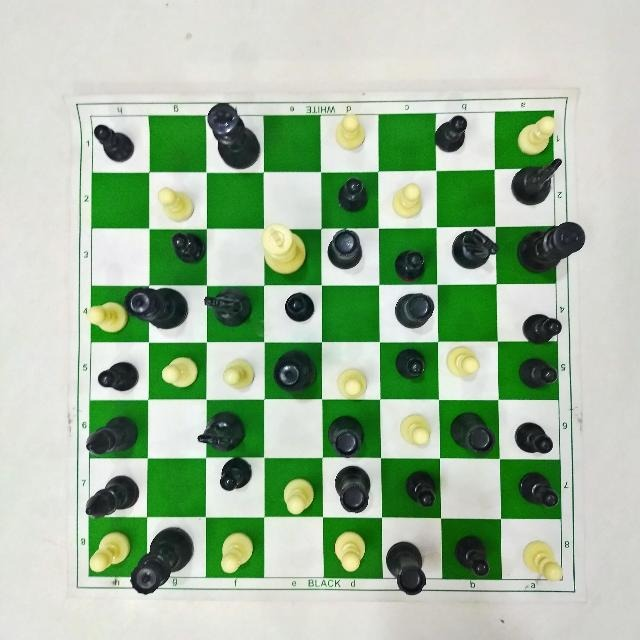black-bishop: (86, 472, 142, 520)
black-king: (513, 220, 588, 275), (124, 286, 193, 329)
black-knight: (512, 159, 566, 207), (201, 283, 258, 328), (195, 411, 253, 451), (451, 227, 503, 271), (325, 227, 369, 271)
black-pawn: (451, 532, 495, 584), (514, 467, 561, 512), (429, 113, 472, 157), (93, 123, 137, 165), (332, 109, 371, 155), (513, 420, 559, 458), (215, 458, 258, 498), (392, 244, 432, 286), (403, 465, 442, 508), (95, 359, 144, 393), (515, 354, 563, 388), (517, 312, 562, 348), (170, 227, 209, 266), (280, 287, 320, 324), (335, 175, 373, 213), (394, 344, 431, 383)
black-queen: (132, 525, 197, 600), (260, 222, 309, 276), (82, 414, 138, 455), (270, 350, 316, 396)
black-rook: (388, 538, 430, 600), (447, 404, 499, 453), (335, 468, 374, 516), (326, 411, 366, 454), (394, 292, 436, 331)
white-pawn: (206, 103, 265, 171), (519, 537, 567, 585), (330, 525, 372, 577), (86, 528, 131, 576), (213, 530, 259, 576), (278, 473, 320, 523), (515, 112, 557, 158), (154, 183, 199, 225), (332, 360, 374, 403), (82, 300, 128, 338), (388, 179, 431, 219), (398, 408, 436, 452), (443, 342, 482, 381), (161, 354, 203, 390), (223, 356, 257, 396)
